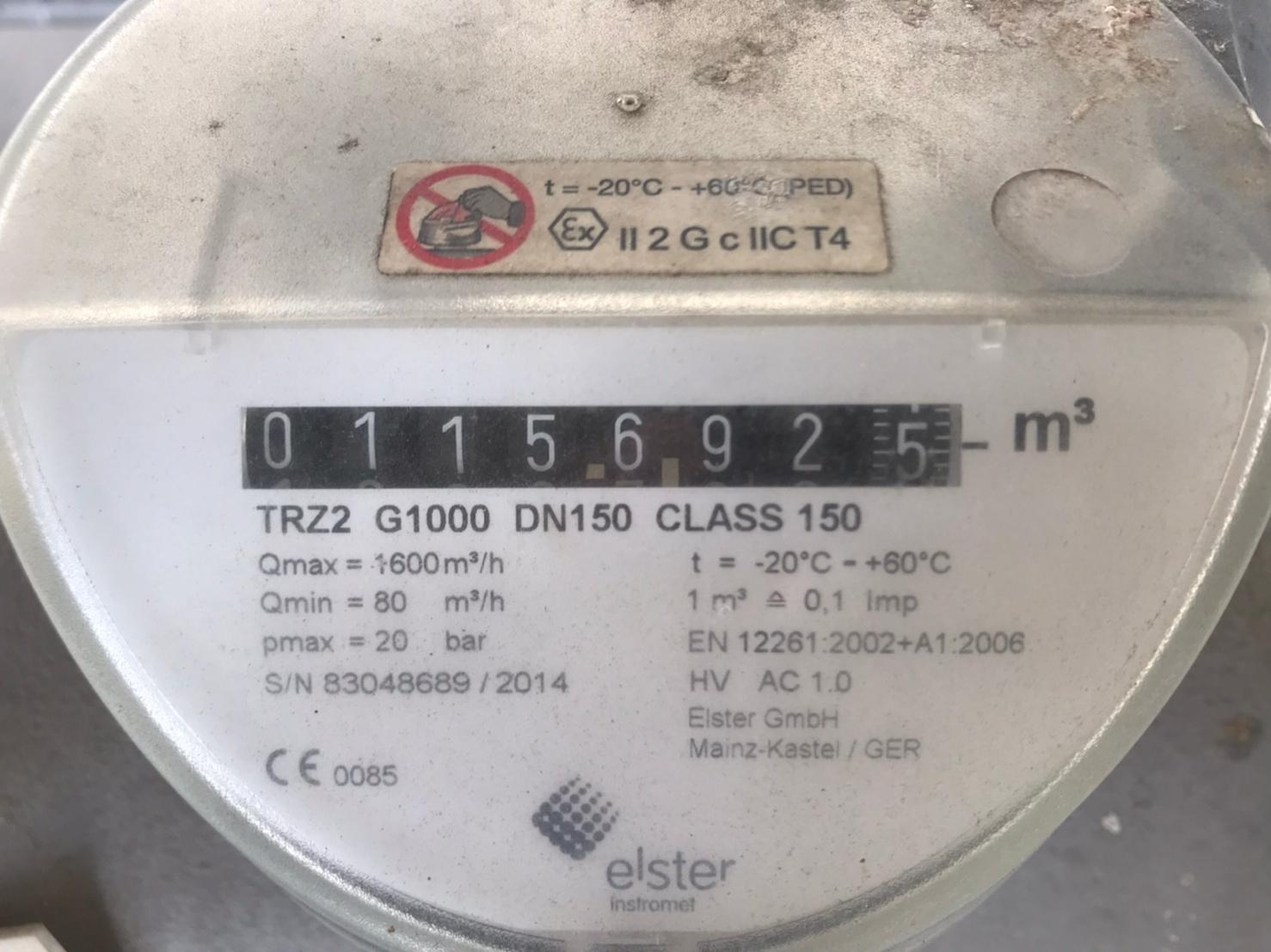analog_dial: (232, 394, 990, 504)
